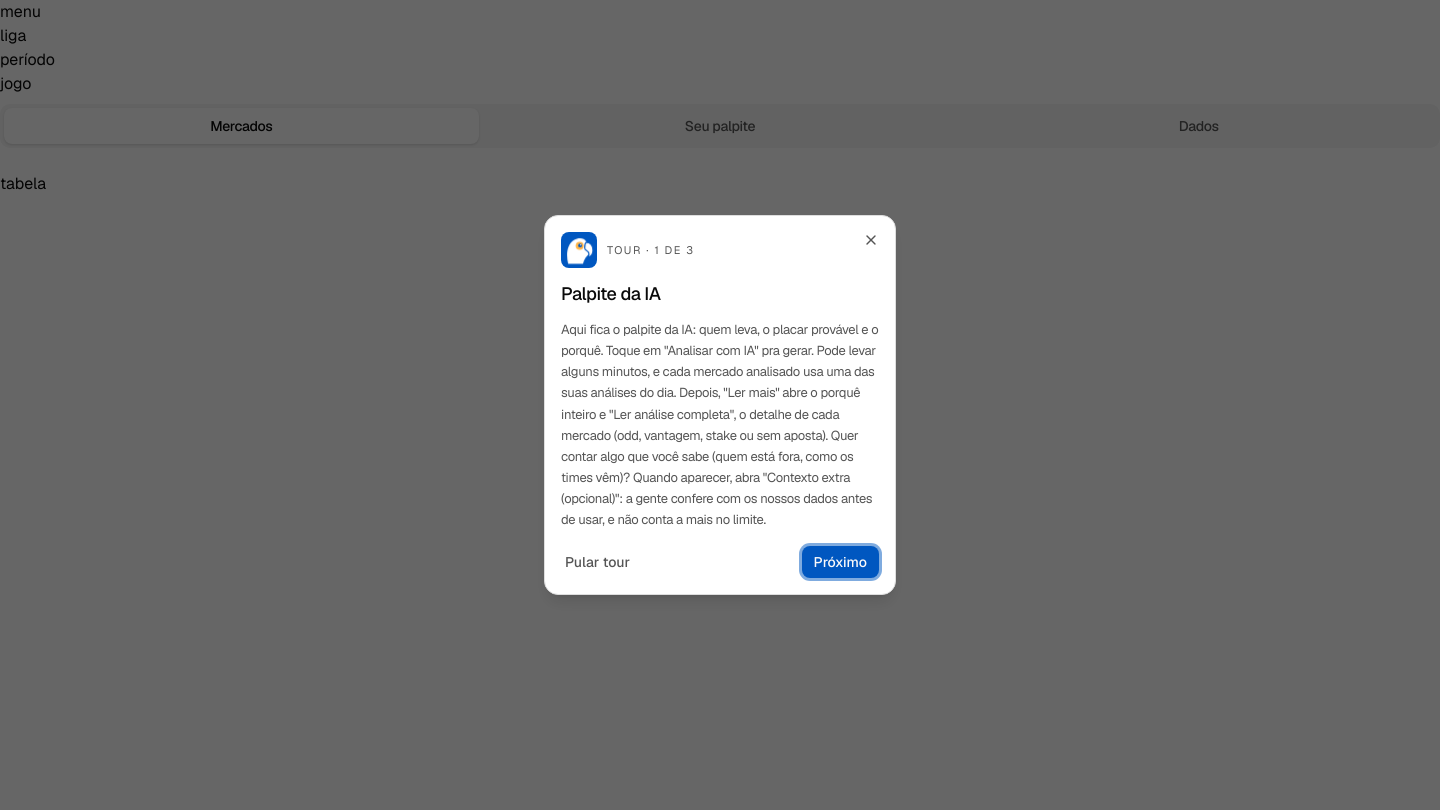
Test case: GuidedTour › passos com aba (#576) › jogo só leitura: pula Mercados e Seu palpite (falam de registrar), mantém Dados
Expected: the dialog shows "Palpite da IA", left=561, top=282, right=661, bottom=305
Expected: the dialog shows "1 de 3", left=544, top=215, right=896, bottom=595
Click the button "Próximo": (840, 562) left=802, top=546, right=879, bottom=578
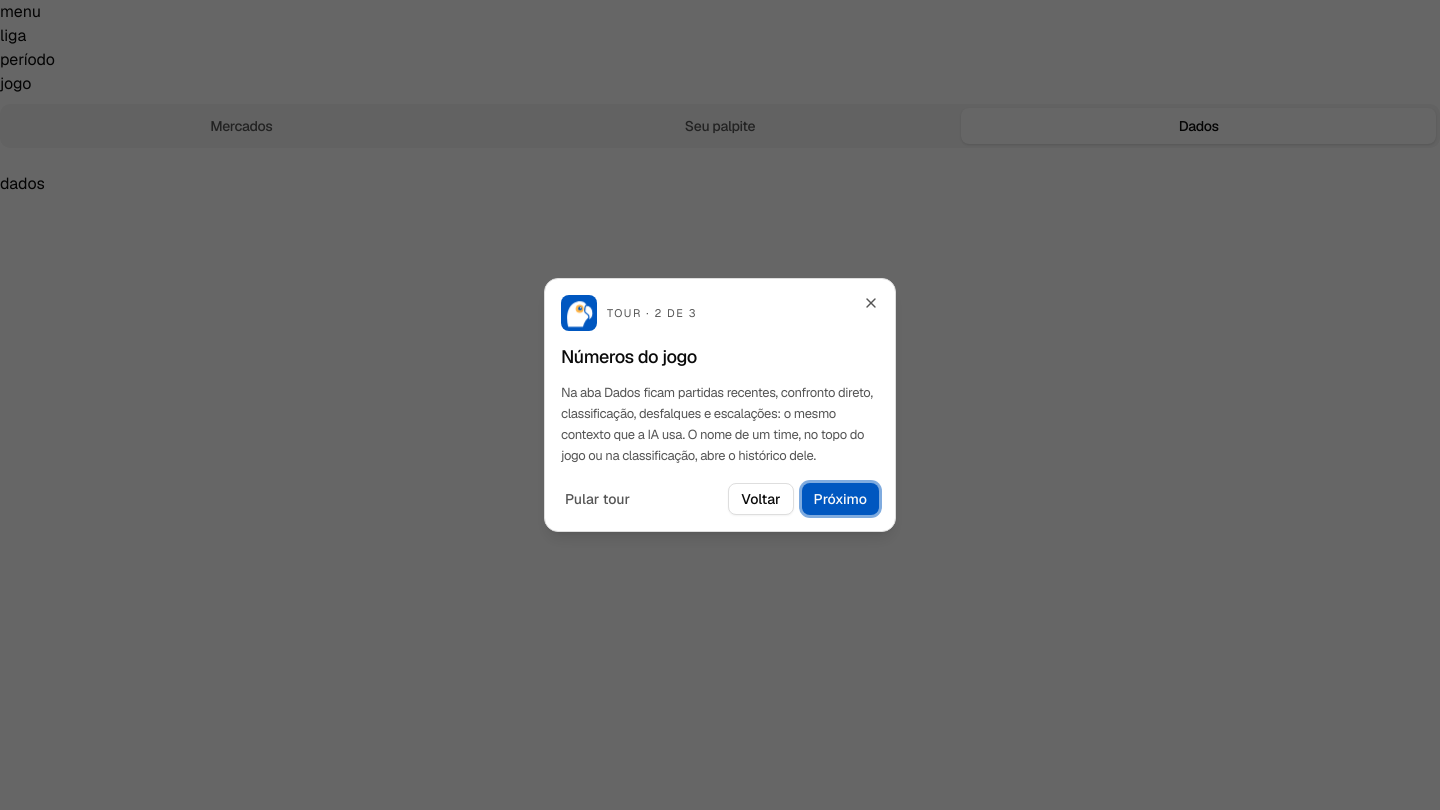
Result: the dialog shows "Números do jogo" at left=561, top=345, right=697, bottom=368
Result: the dialog shows "2 de 3" at left=544, top=278, right=896, bottom=532
Click the button "Próximo": (840, 498) left=802, top=482, right=879, bottom=514
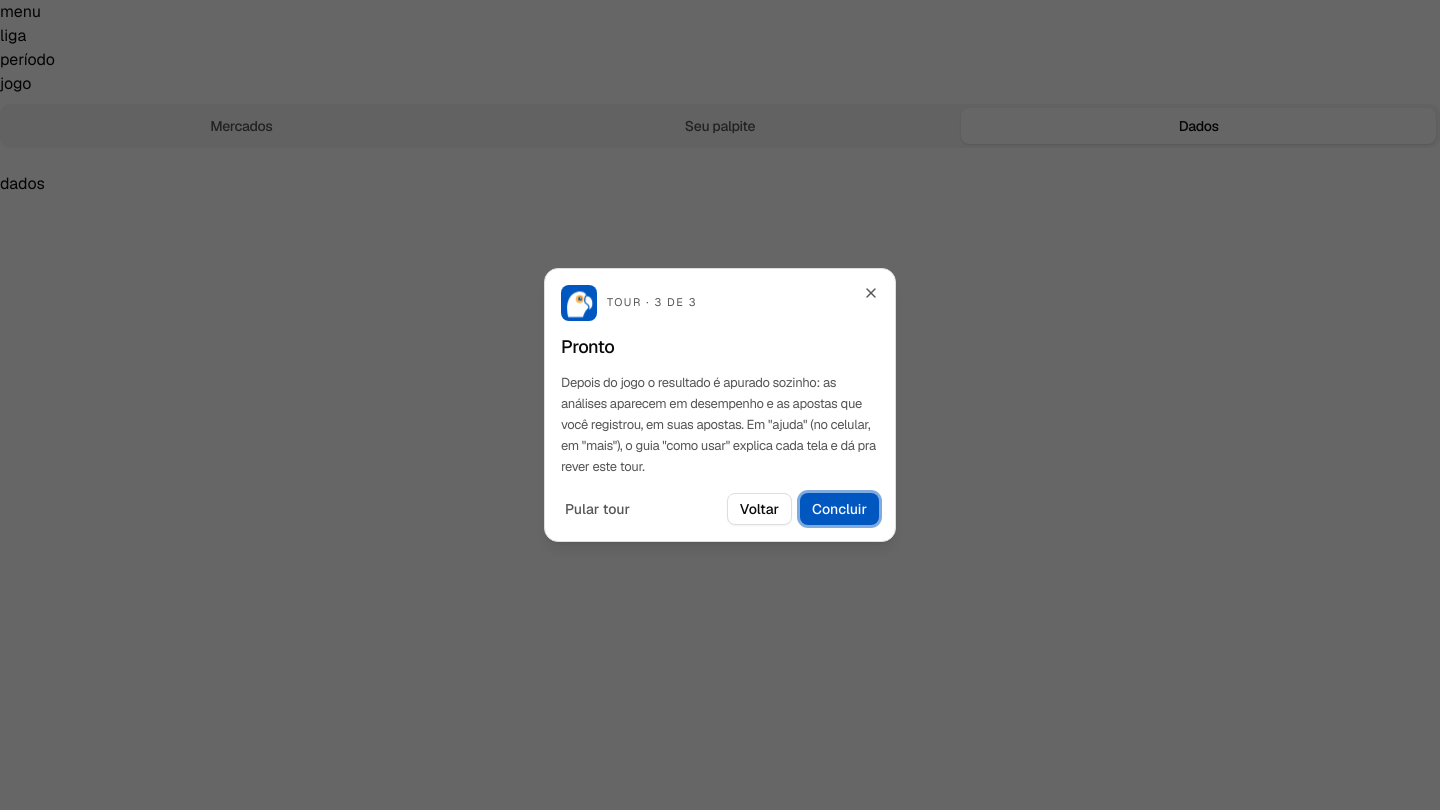
Result: the dialog shows "Pronto" at left=561, top=334, right=614, bottom=358
